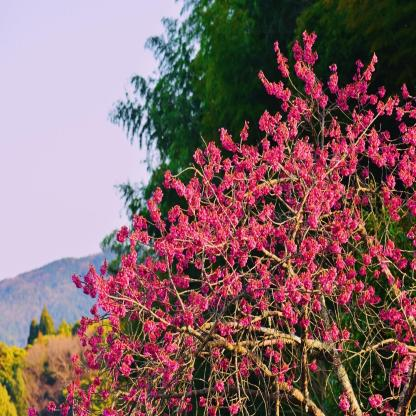KanhiSakura: (25, 32, 416, 416)
